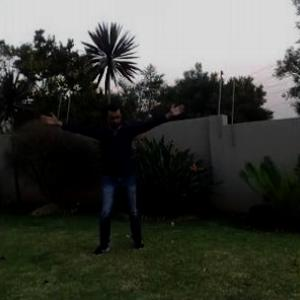takeoff: (31, 96, 168, 260)
